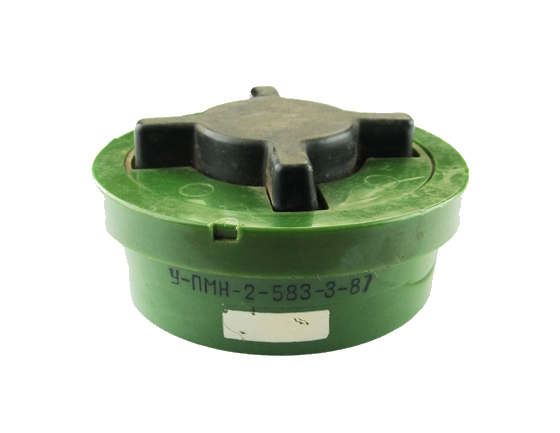PMN 2: (95, 86, 470, 355)
